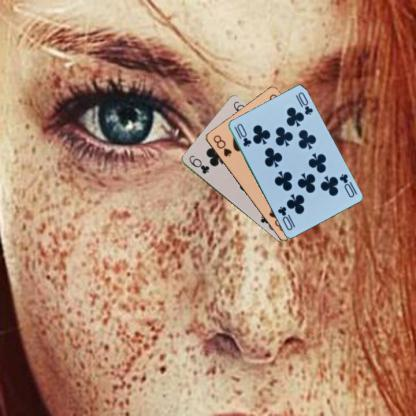10c: (336, 171, 356, 199), (232, 121, 252, 148)
6c: (186, 152, 210, 176)
8s: (210, 132, 233, 158)
